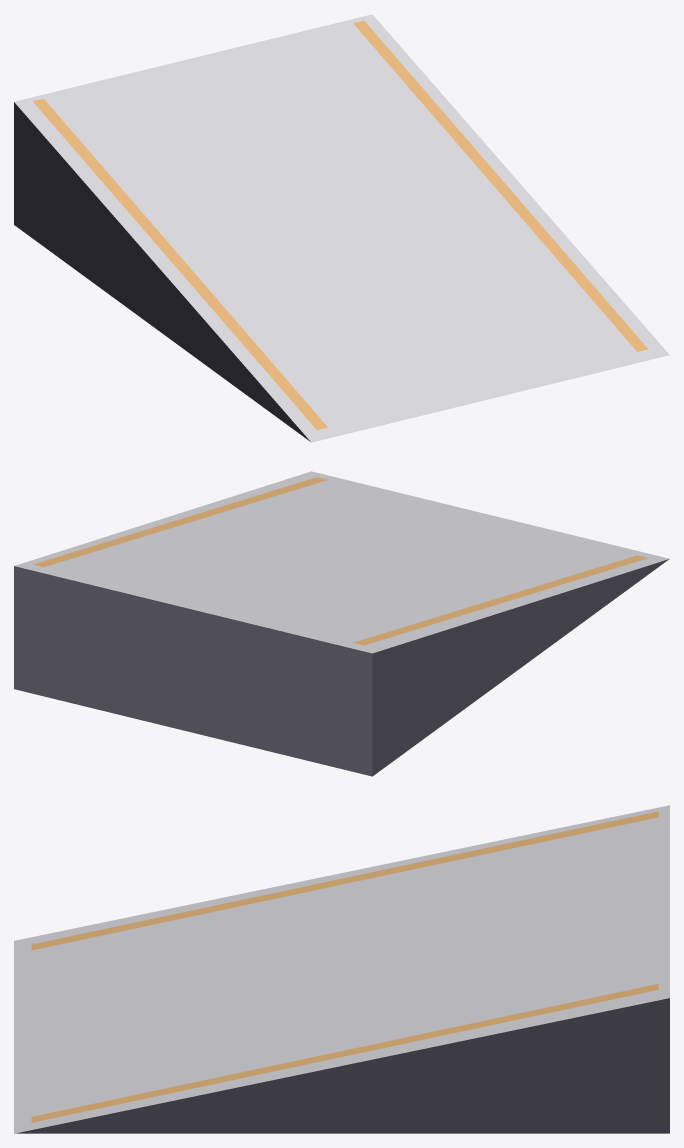
The model's file is ramp.glb.
3 renders of one model, top to bottom at view 1: azimuth 30°, elevation 25°; view 2: azimuth 150°, elevation 25°; view 3: azimuth 270°, elevation 25°, orthographic. The views are drawn at different scales.
Visible parts, largest first — view 1: ramp; view 2: ramp; view 3: ramp.
Boxes of the visible parts, x1,y1,x2,y2 form: ramp: (14, 14, 669, 442); ramp: (14, 471, 669, 776); ramp: (14, 805, 669, 1133).
Size of the model in its own units: 3.2 by 1.06 by 4.6.
